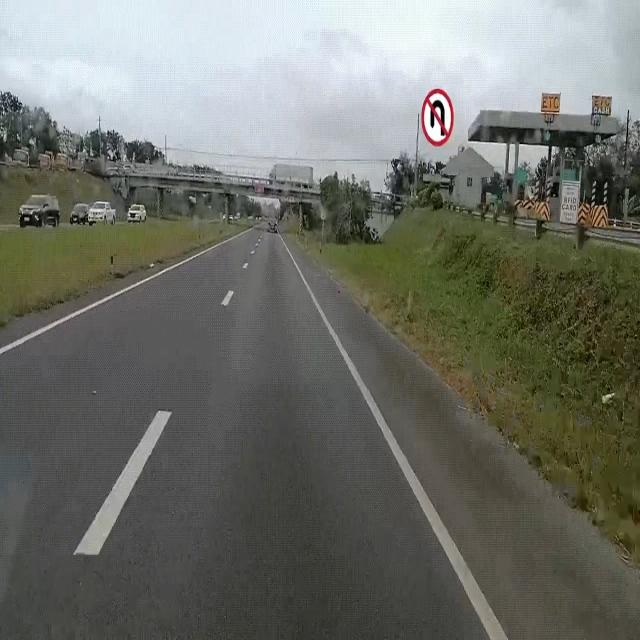Demi-Tour-Interdit: (418, 80, 456, 149)
